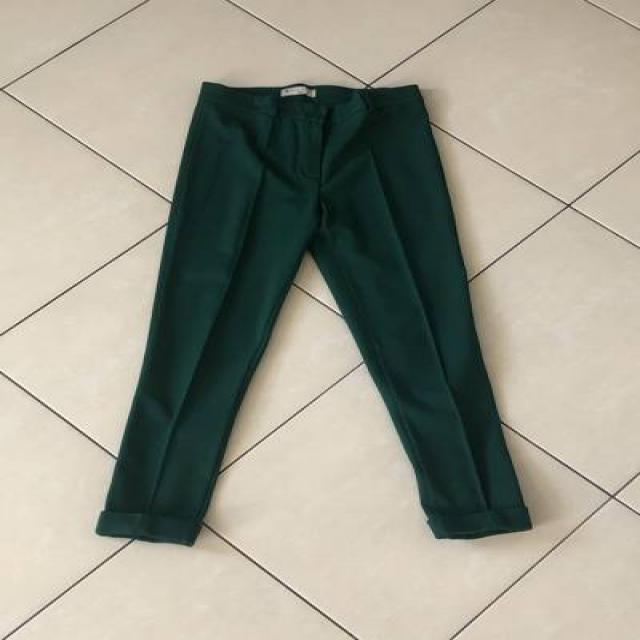Clothes -Biodegradable-: (94, 80, 531, 545)
